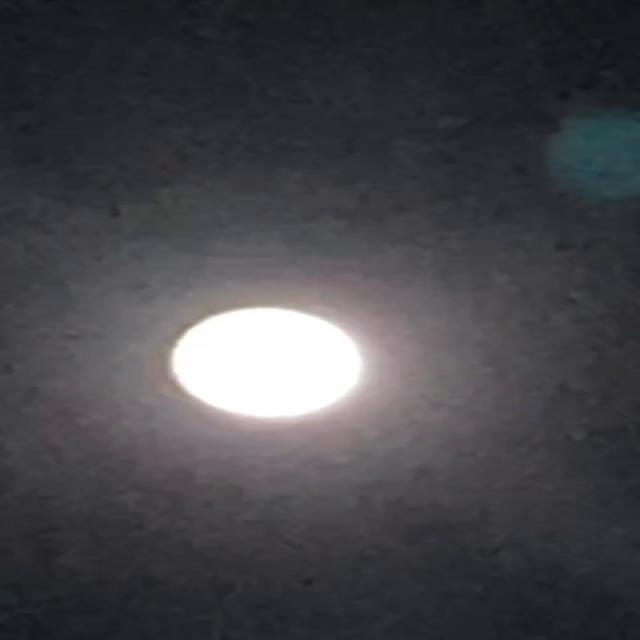moon: (152, 292, 376, 436)
